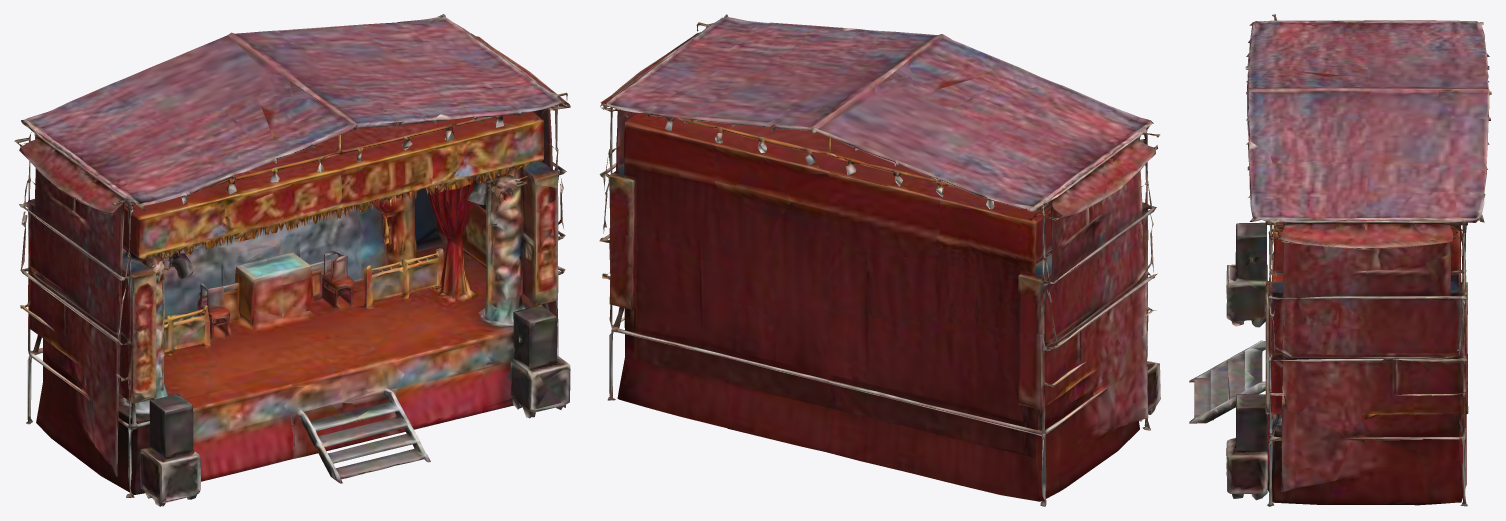
File: stage-lite.glb
The picture shows the model from 3 angles, left to right: view 1: azimuth 30°, elevation 25°; view 2: azimuth 150°, elevation 25°; view 3: azimuth 270°, elevation 25°; orthographic projection. The views are drawn at different scales.
Bounding box in the file's own units: 0.9765 × 0.6516 × 0.5635.
1 material, 1 textured.
